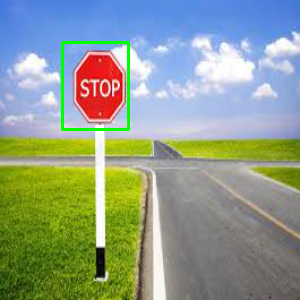STOP_SIGN: (79, 32, 217, 235)
